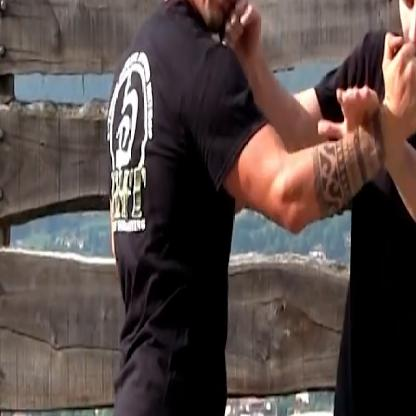knife: (381, 27, 415, 202)
